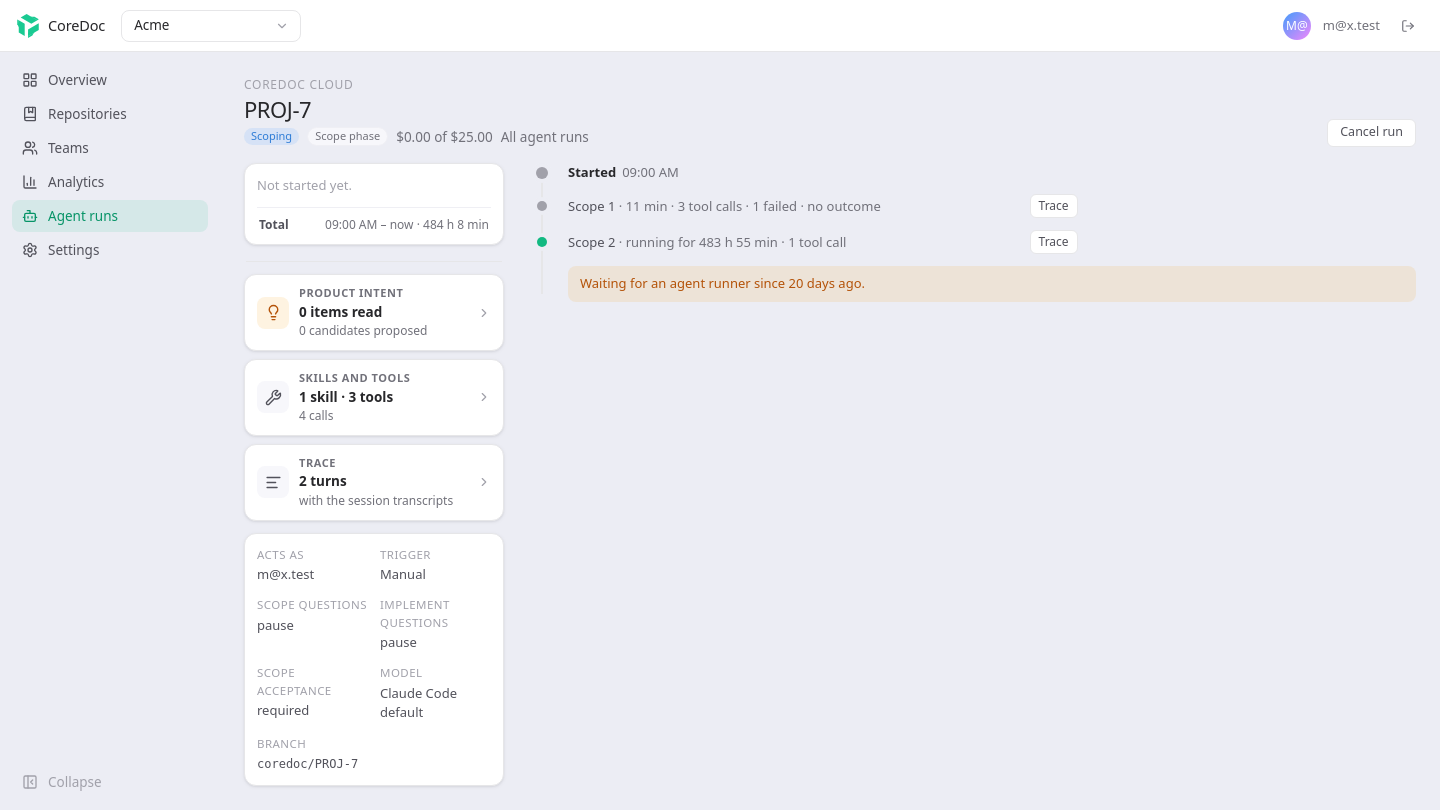
it: agent runs routes › trace › opens every turn’s trace in a drawer: tool rows with results, failures with their output, messages, and the transcript download
This screenshot has width=1440, height=810.
Click the button with aria-label "Trace: ": (273, 482) [244,444,504,521]
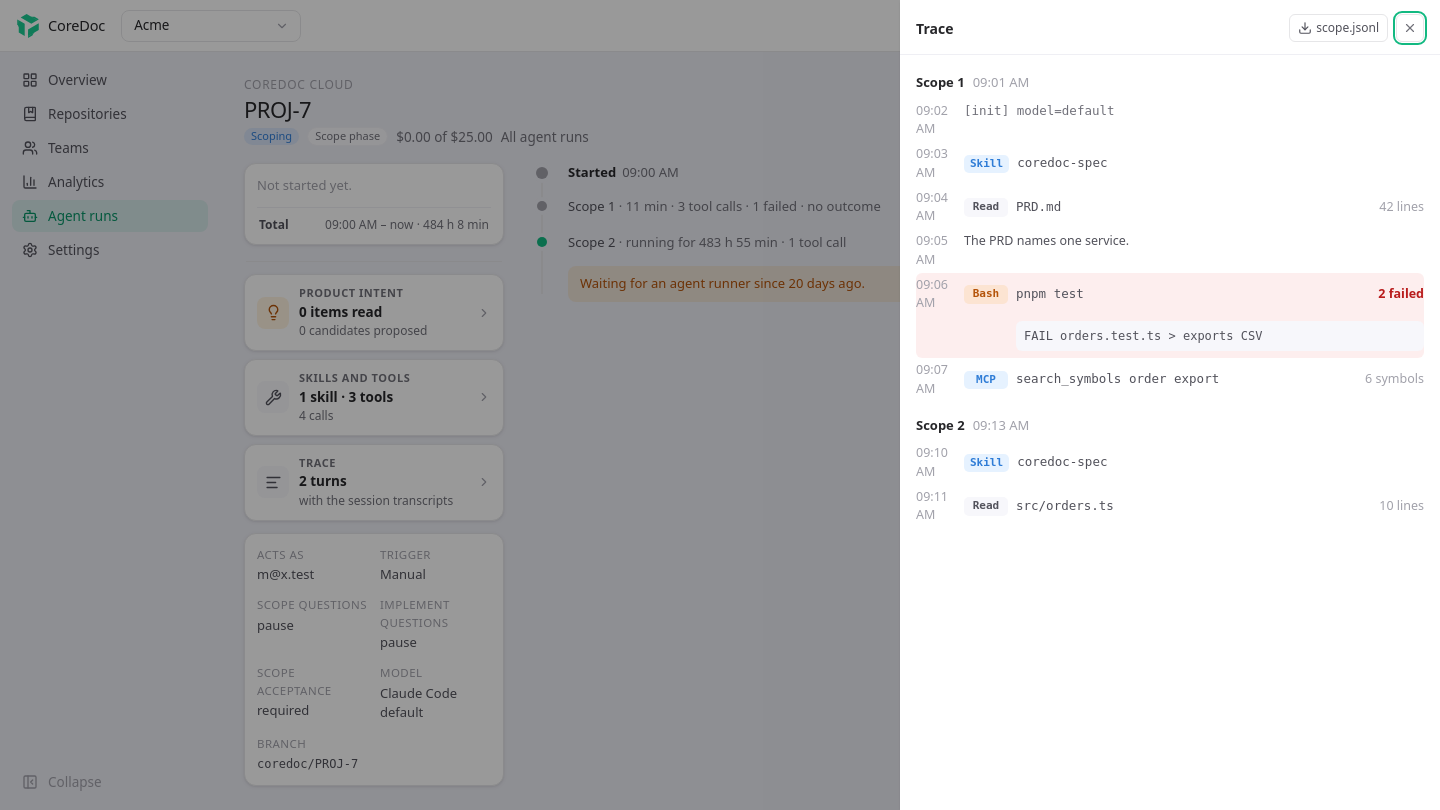
Result: the list named "Scope 2 trace" is shown at [916,441,1424,528]
